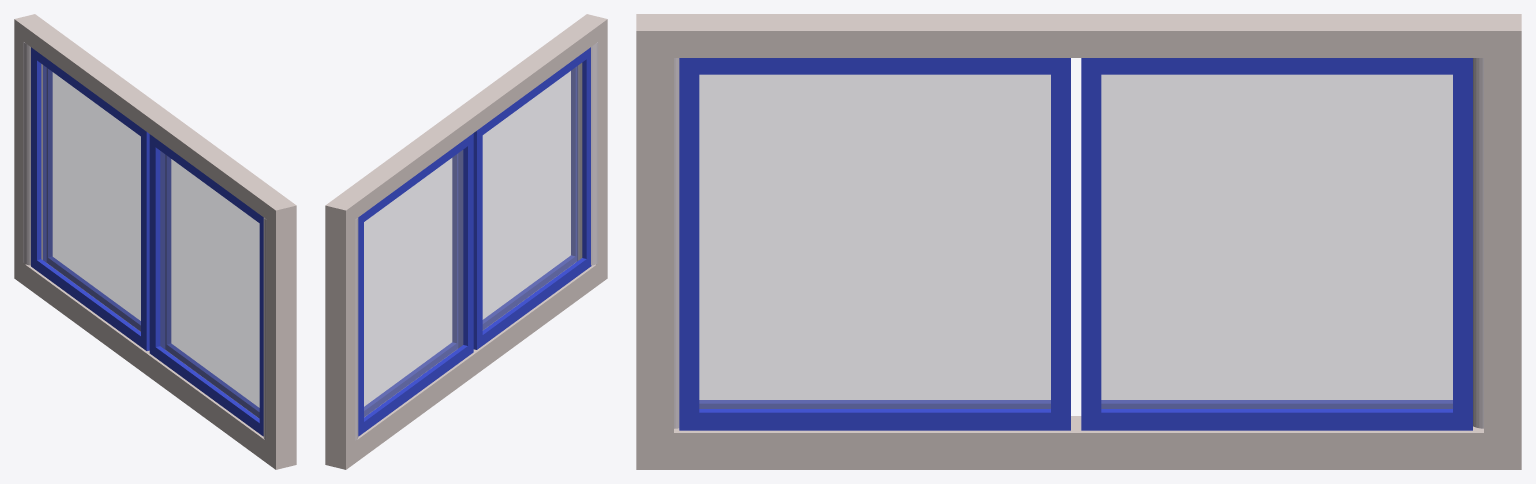
Rendered from window_good2.gltf.
3 views of the same model, side by side, from view 1: azimuth 30°, elevation 25°; view 2: azimuth 150°, elevation 25°; view 3: azimuth 270°, elevation 25° (orthographic). The views are drawn at different scales.
Parts seen in each view (by area): view 1: Glass Frame, Window Frame, Window Hinges; view 2: Glass Frame, Window Frame, Window Hinges; view 3: Glass Frame, Window Frame, Window Hinges.
Boxes of the visible parts, x1,y1,x2,y2 form: Glass Frame: (31,47,263,436); Window Frame: (14,14,296,469); Window Hinges: (23,42,266,440); Glass Frame: (358,47,591,436); Window Frame: (325,14,607,469); Window Hinges: (355,42,598,440); Glass Frame: (679,58,1472,430); Window Frame: (636,14,1521,469); Window Hinges: (674,58,1483,428).
Size of the model in its own units: 0.1934 by 2.27 by 4.15.
